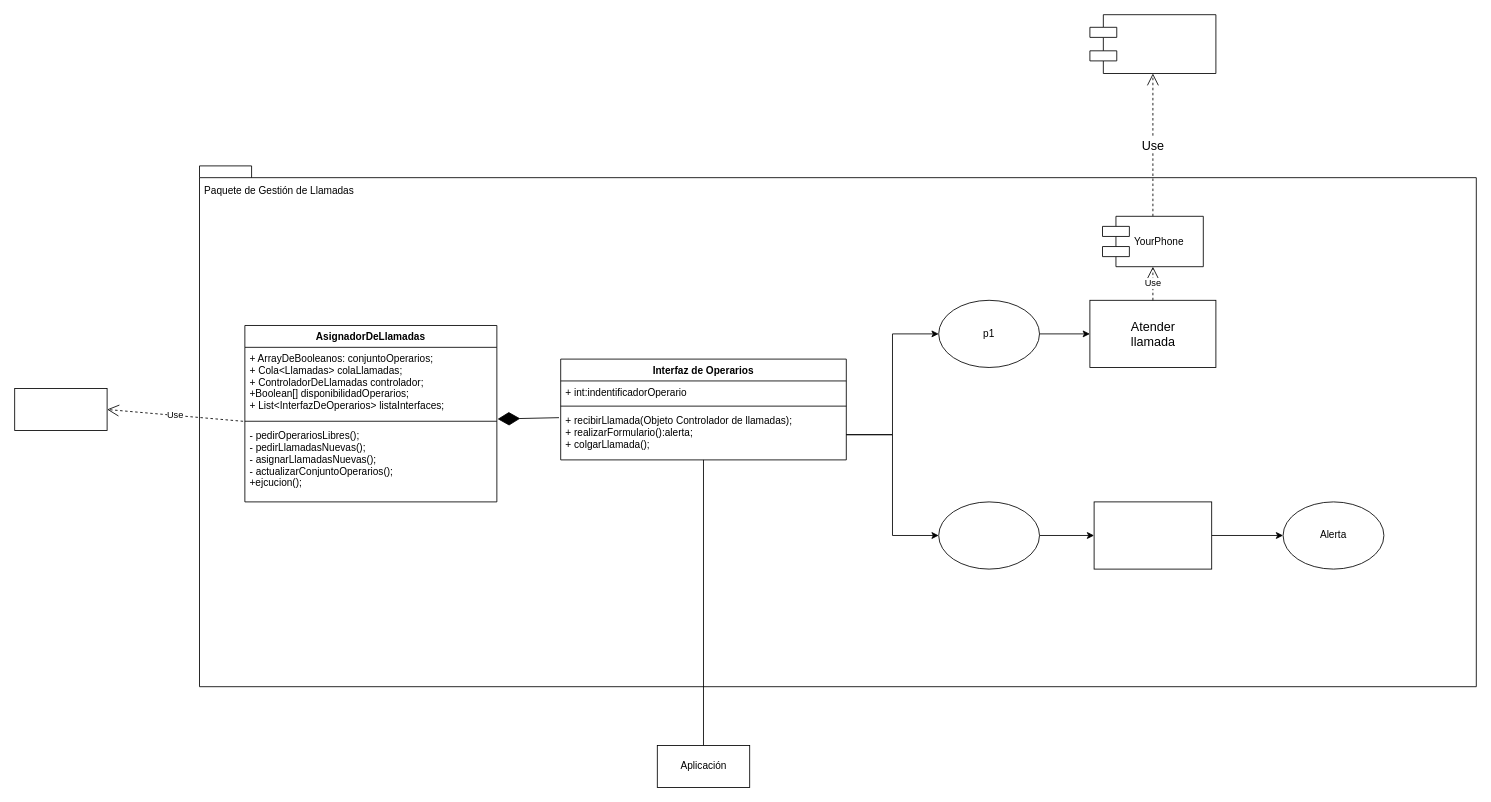
The diagram is 1491 pixels wide and 802 high, and some of its shapes have lost their labels. The centre of each missing label's shape, as x and y in pixels:
Controlador de Llamadas: pixel 60 409
GSM: pixel 1152 44
p2: pixel 989 535
realizarFormulario();: pixel 1152 535
